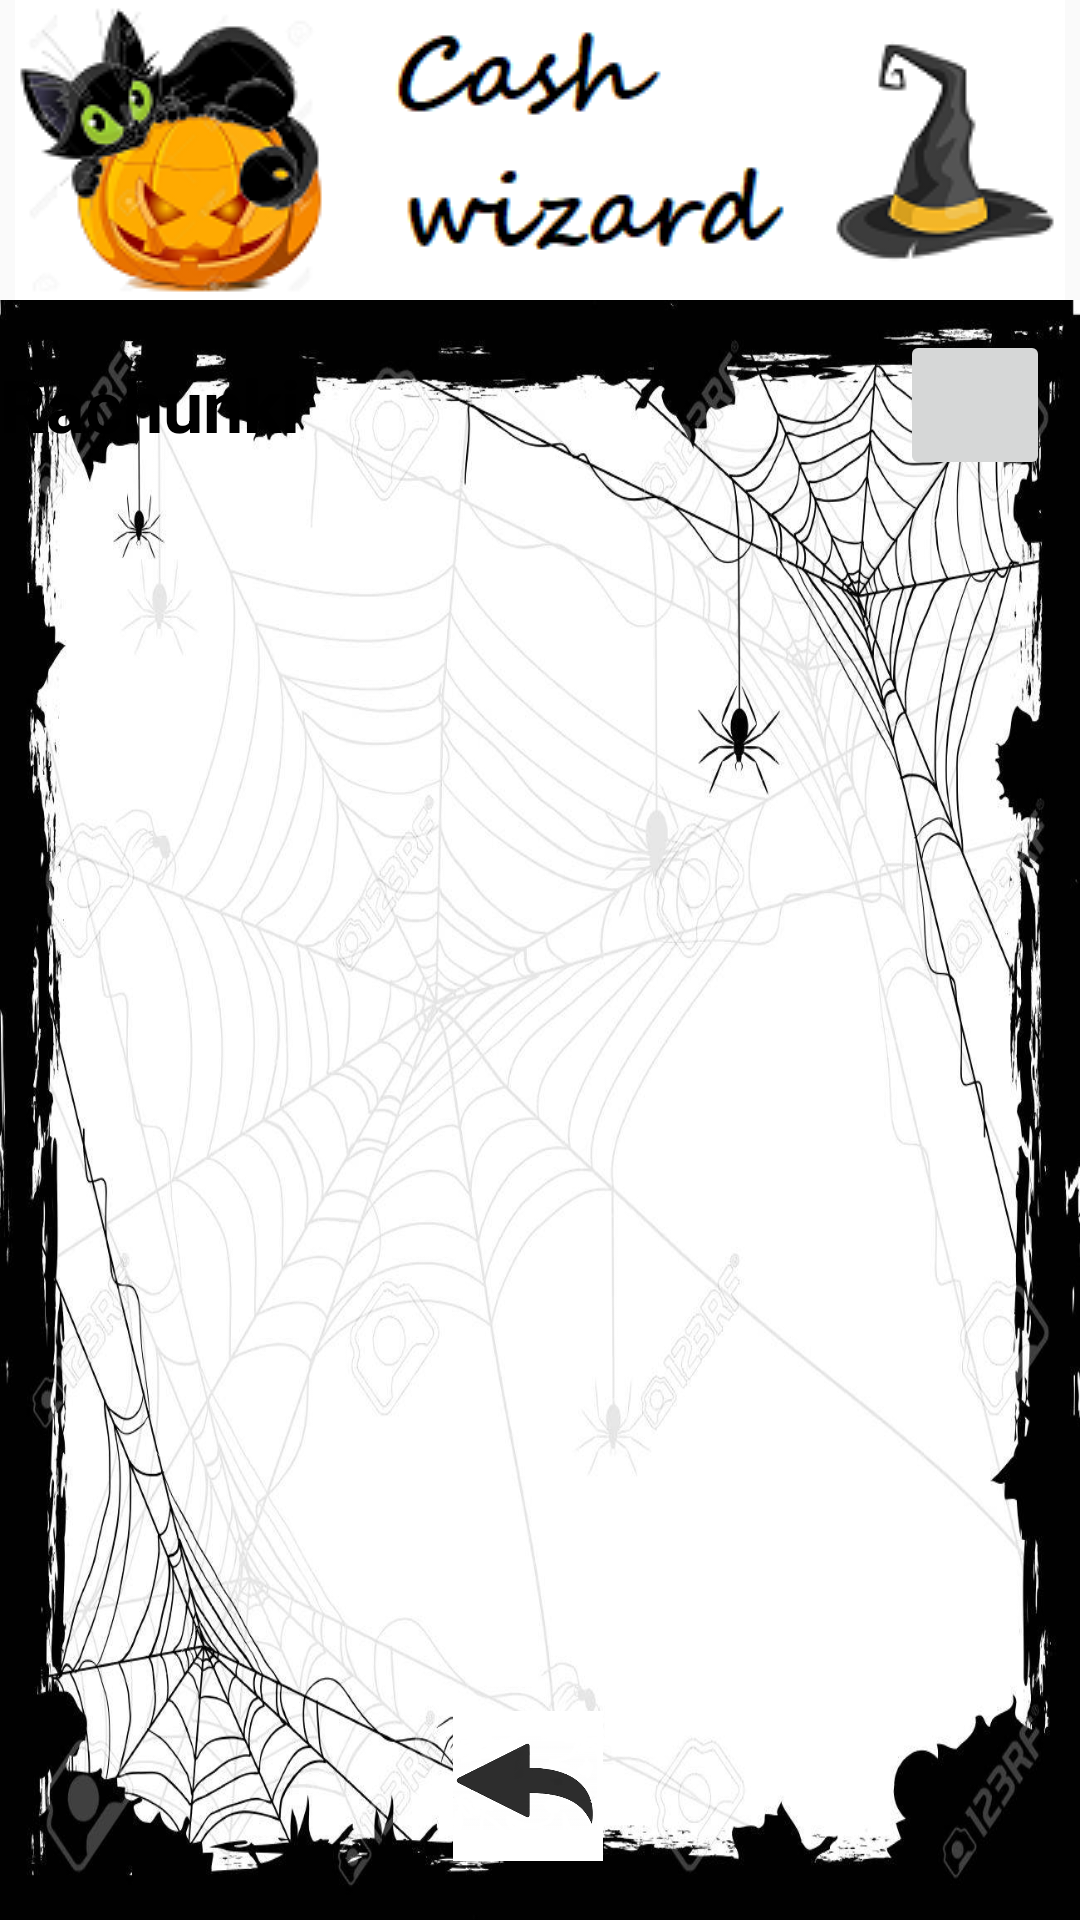

Icons on this 1080px x 1920px Android screen, each with the point to tap as (x=x, y=y):
back: (x=524, y=1784)
